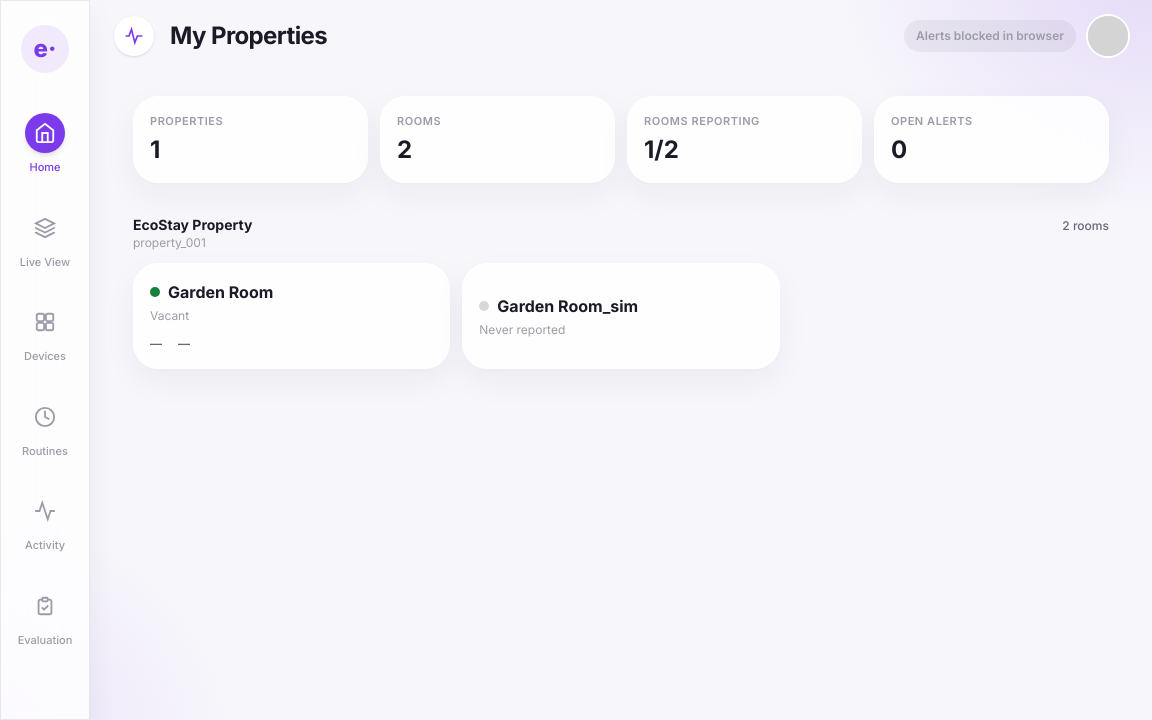
Scenario: dashboard tenancy › navigates a room-scoped rail tab straight from the multi-room overview
Expected: the button "Garden Room_sim Never reported" is shown, [462,262,780,368]
Click the button "Routines".
click(45, 428)  # box [13,388,77,467]
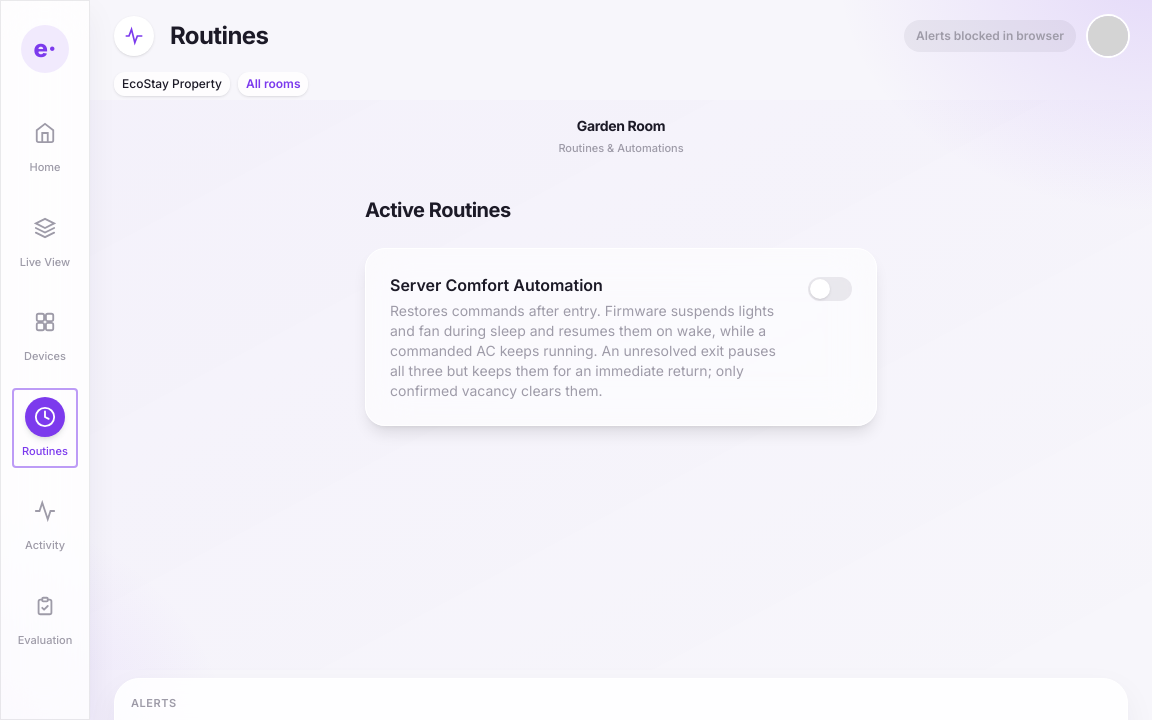
Expected: the text "Routines & Automations" is shown, [558,140,684,156]
